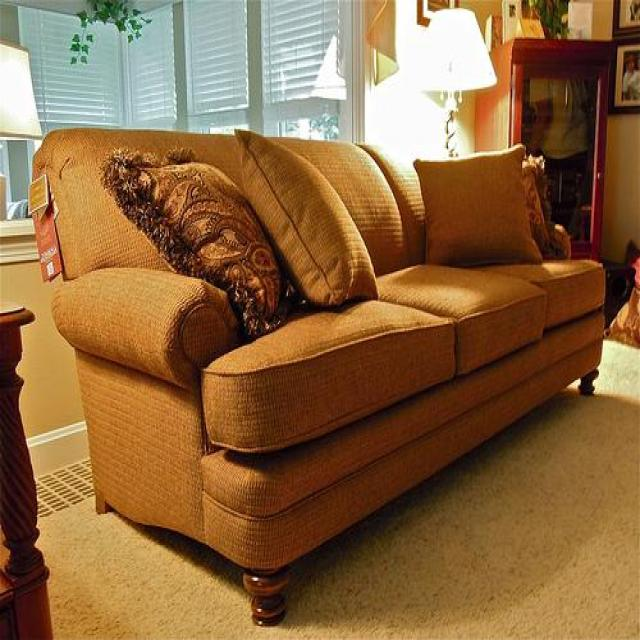sofa: (29, 124, 612, 630)
